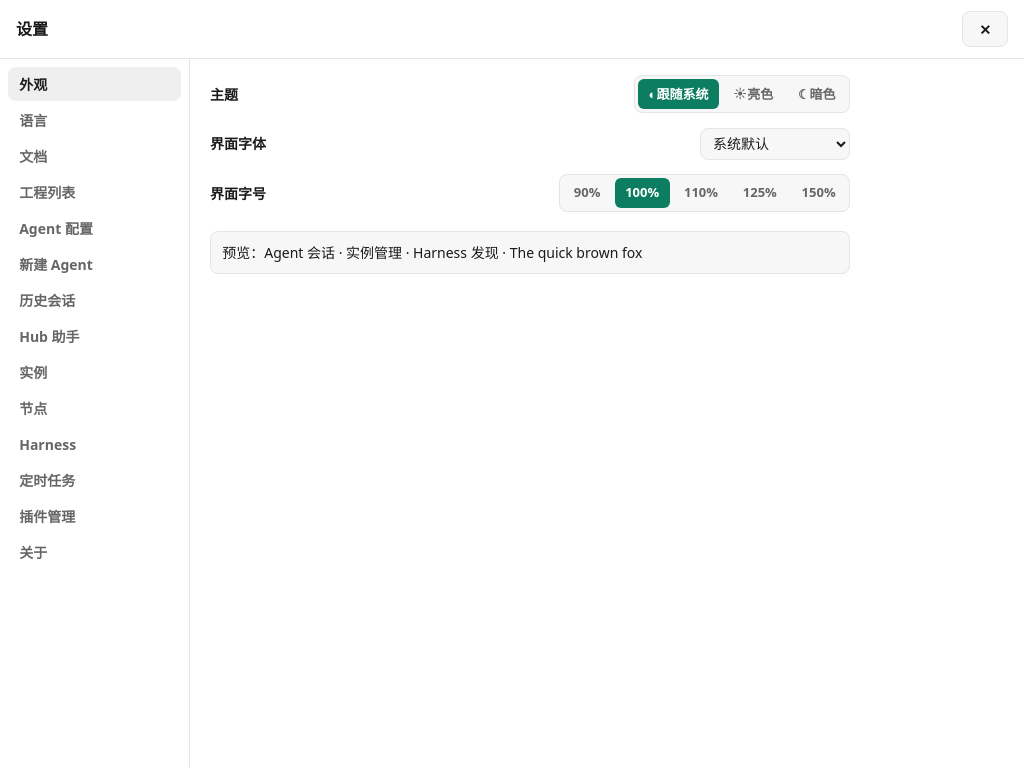
Scenario: SettingsPage 外壳（B1） › 分区切换：点「关于」→ 关于内容出现，外观内容消失
The image size is (1024, 768).
What coordinates should you click on to do the following:
click the button "关于"
I would click on:
 (94, 552)
Its box is x1=8 y1=535 x2=181 y2=569.
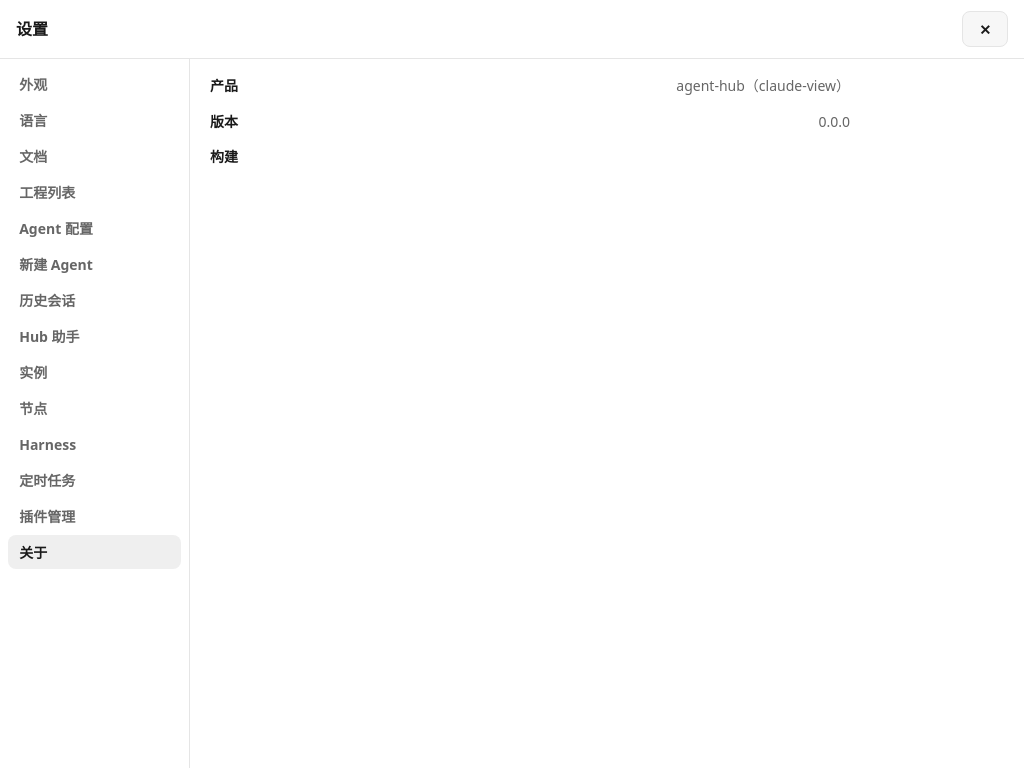
expect the text "agent-hub（claude-view）" is shown: met, box x1=676 y1=75 x2=850 y2=96
expect the field labelled "外观设置" is gone: met
